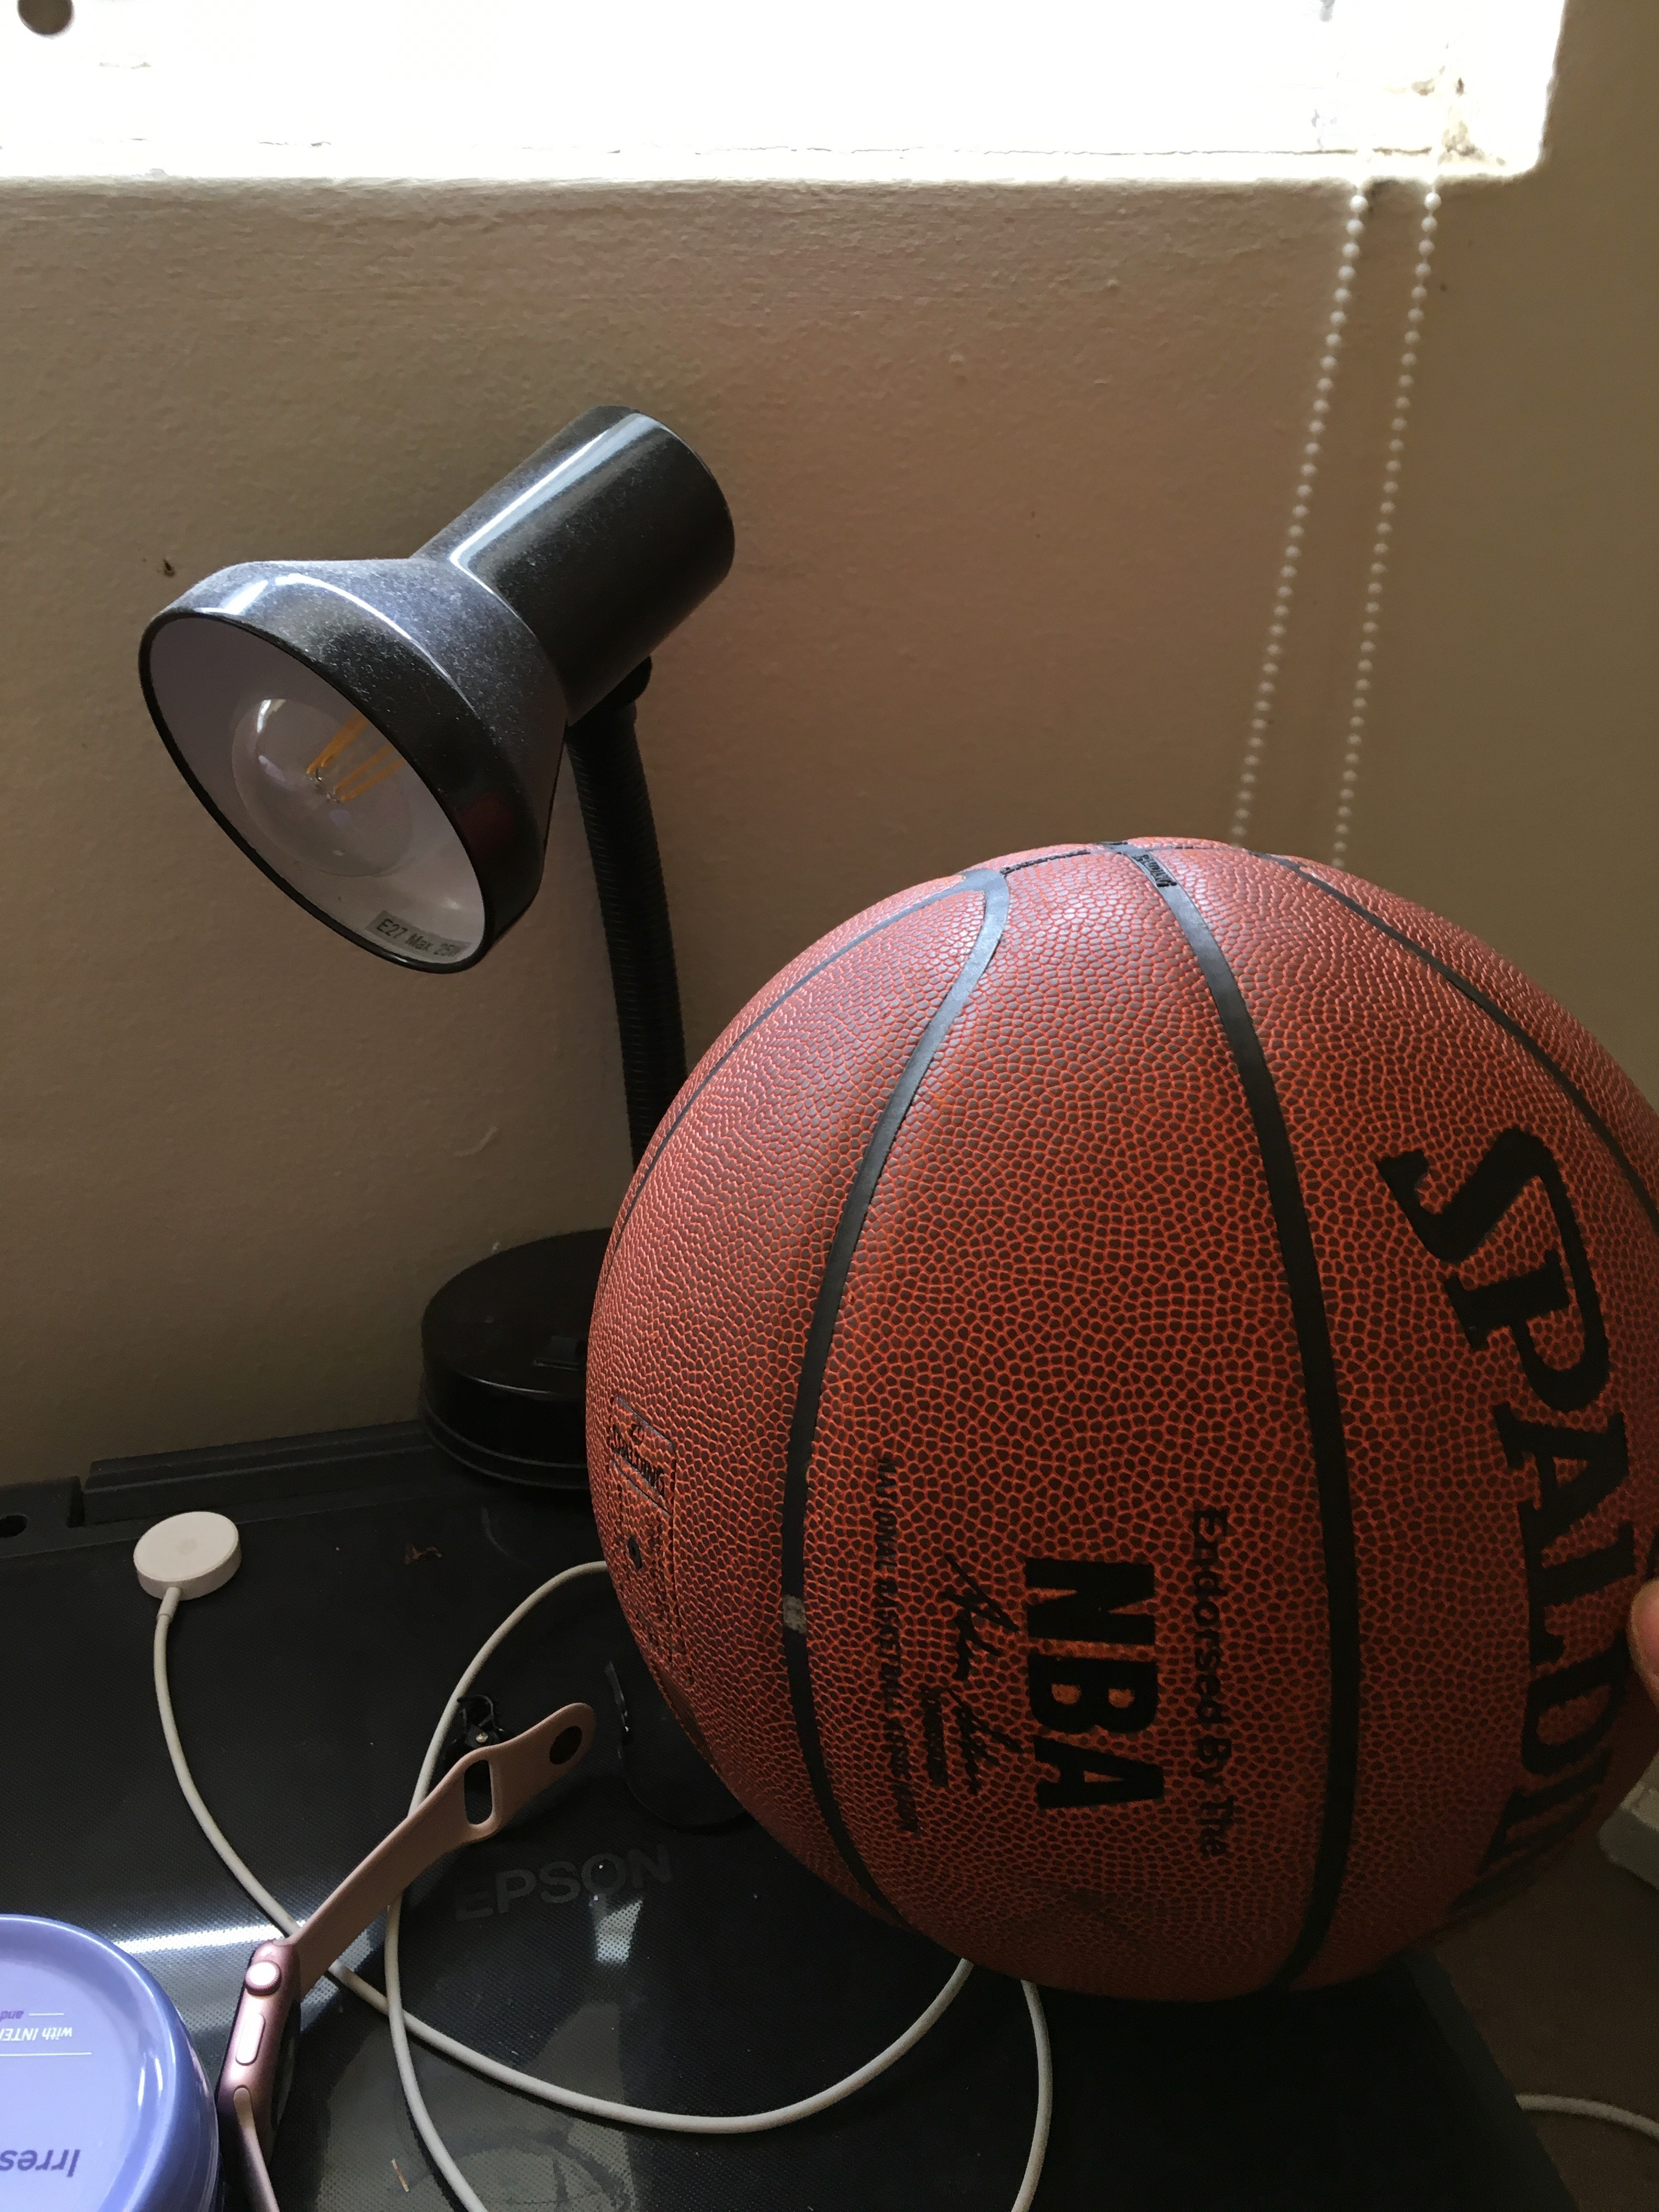Basketball: (556, 817, 1659, 2015)
